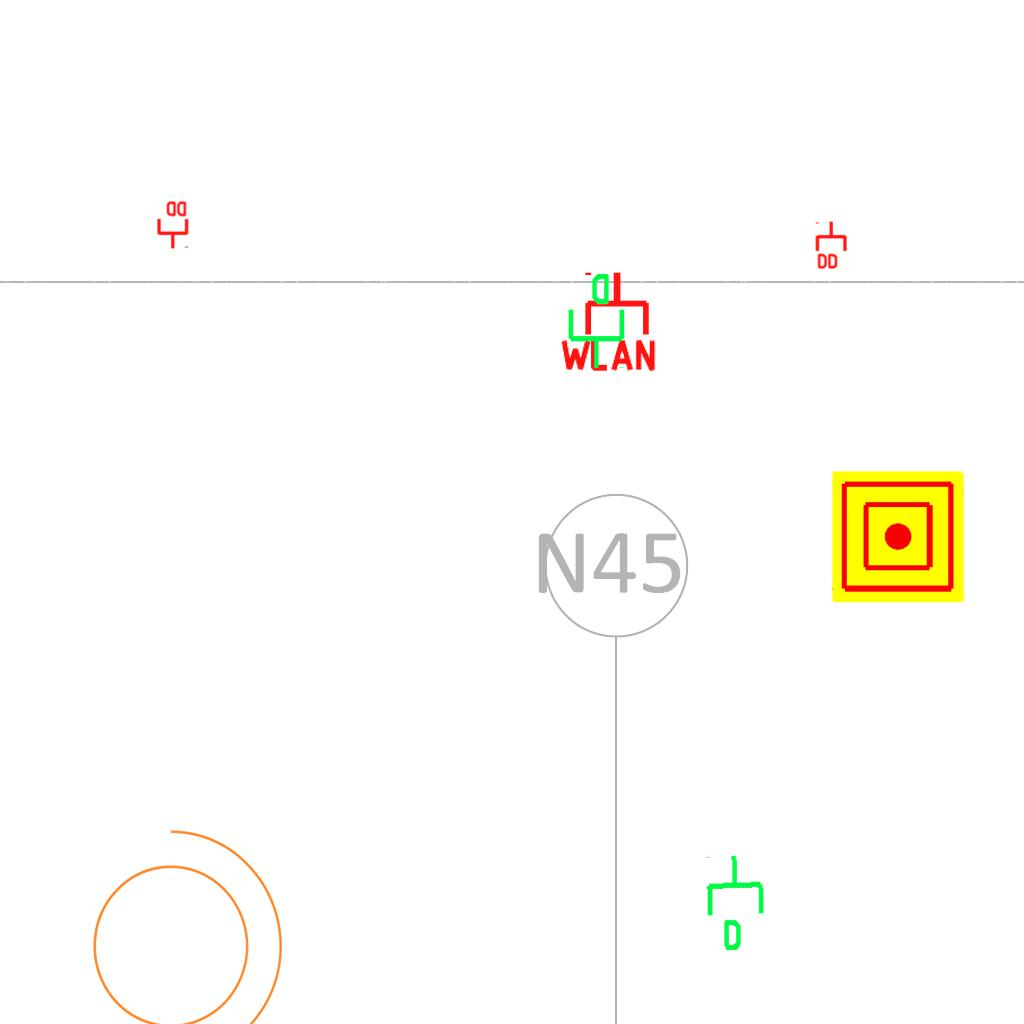Datenanschluss_einfach: (701, 851, 774, 955), (560, 271, 629, 371)
Datenanschluss_zweifach: (815, 220, 849, 271), (155, 199, 189, 250)
NAM-Nichtautomatischer_Melder: (832, 471, 964, 603)
Scheinwerfer_fuer_Alarmbeleuchtung: (68, 808, 293, 1024)
WLAN: (556, 268, 660, 373)
